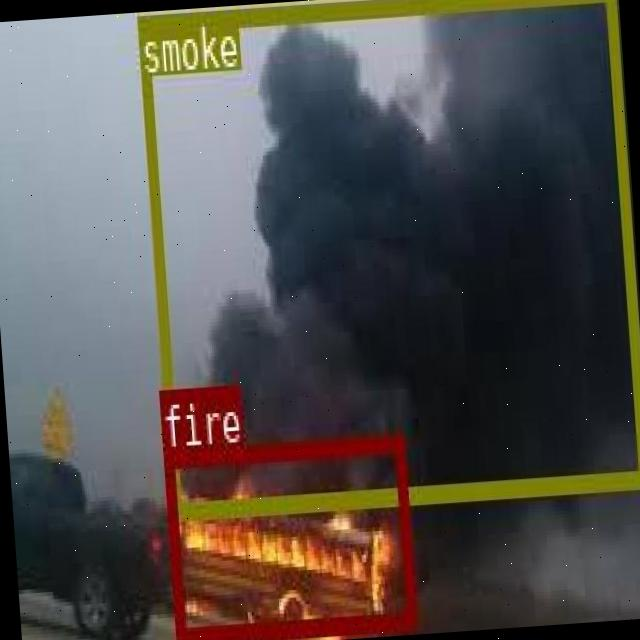fire: (161, 431, 415, 640)
smoke: (135, 0, 640, 516)
